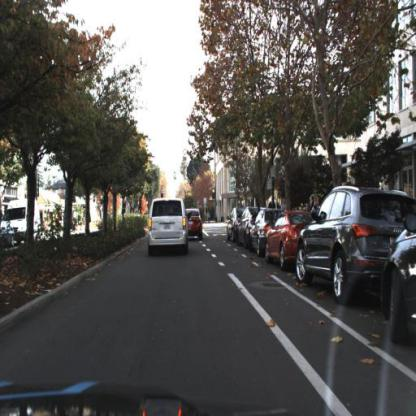car: (297, 180, 416, 316), (143, 189, 195, 262), (264, 208, 315, 267), (1, 199, 45, 248), (248, 209, 279, 257), (235, 207, 258, 247), (180, 207, 204, 240), (227, 205, 241, 244)
trafficLight-Red: (160, 190, 166, 200), (213, 189, 217, 202)
